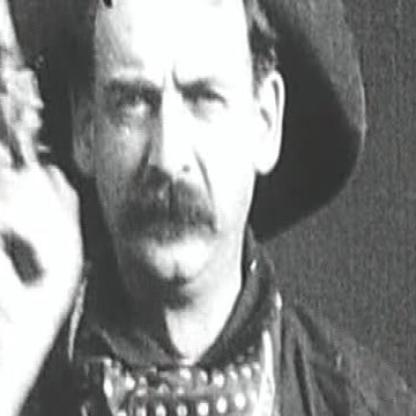gun: (0, 0, 74, 301)
